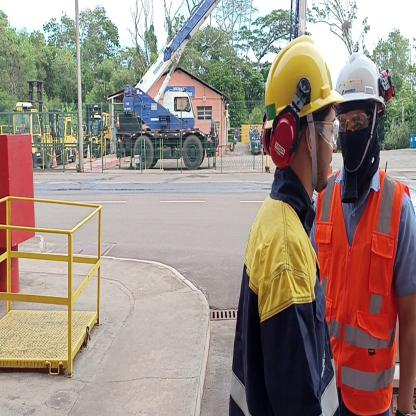Balaclava: (336, 103, 383, 181)
C_eletrica: (230, 188, 339, 416)
Capacete: (260, 37, 340, 118), (337, 52, 391, 106)
colete: (326, 179, 416, 416)
